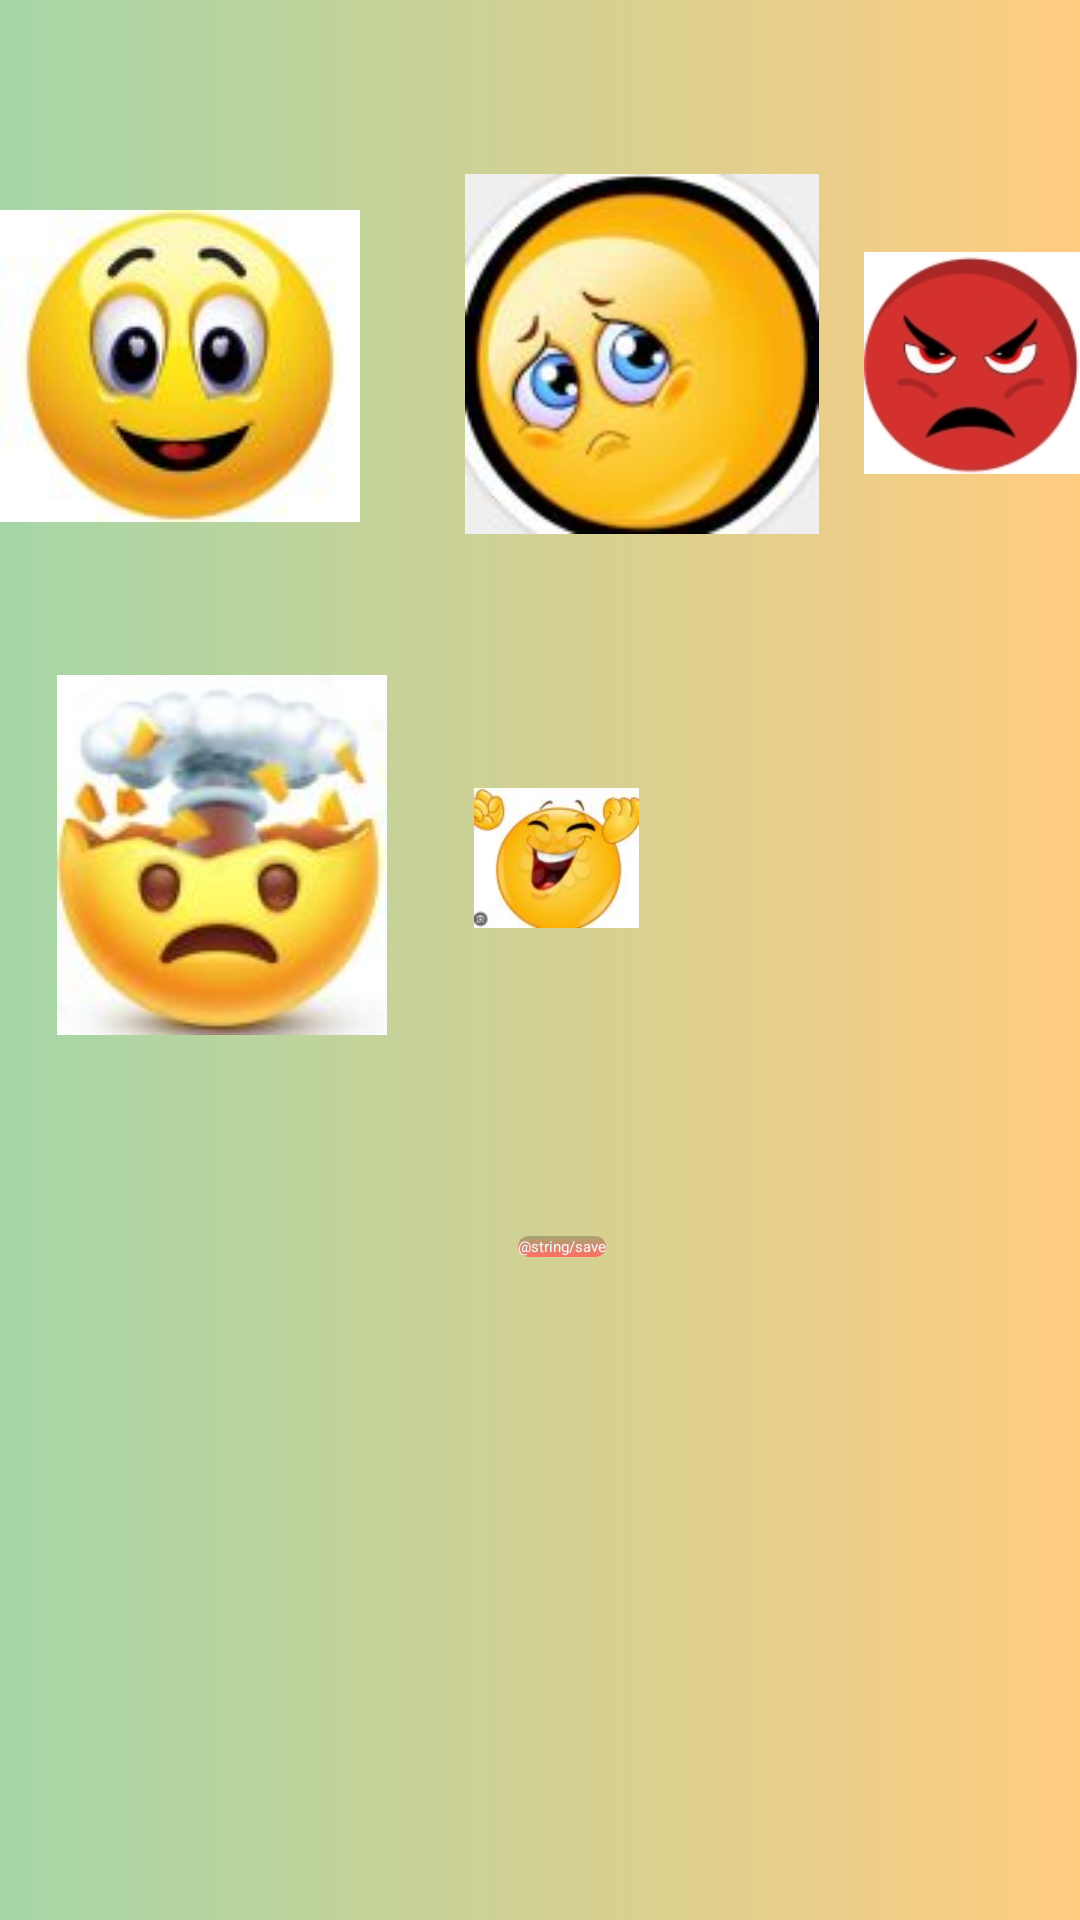

Screen size 1080 × 1920. Icon name, then its box in pixels as (x1, y1, x2, y2):
angry: (864, 252, 1080, 474)
excited: (474, 788, 639, 928)
happy: (0, 186, 360, 546)
sad: (465, 174, 822, 534)
stressed: (57, 675, 402, 1035)
